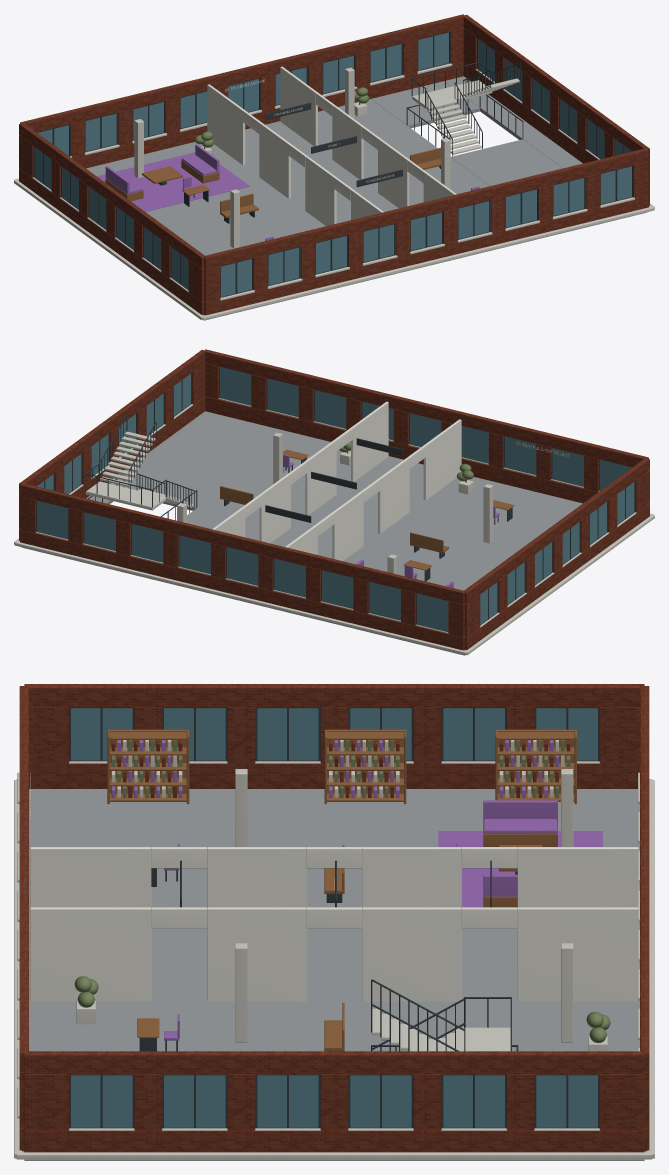
Rendered from SM_LegacyTower_Level01.fbx.
3 renders of one model, top to bottom at view 1: azimuth 30°, elevation 25°; view 2: azimuth 150°, elevation 25°; view 3: azimuth 270°, elevation 25°, orthographic. The views are drawn at different scales.
Parts seen in each view (by area): view 1: SM_LegacyTower_Level01; view 2: SM_LegacyTower_Level01; view 3: SM_LegacyTower_Level01.
Boxes of the visible parts, x1=… form: SM_LegacyTower_Level01: x1=14, y1=14, x2=654, y2=320; SM_LegacyTower_Level01: x1=14, y1=349, x2=654, y2=655; SM_LegacyTower_Level01: x1=14, y1=684, x2=654, y2=1160.
Size of what is drawn, in the model's own units: 2866 by 2066 by 486.
